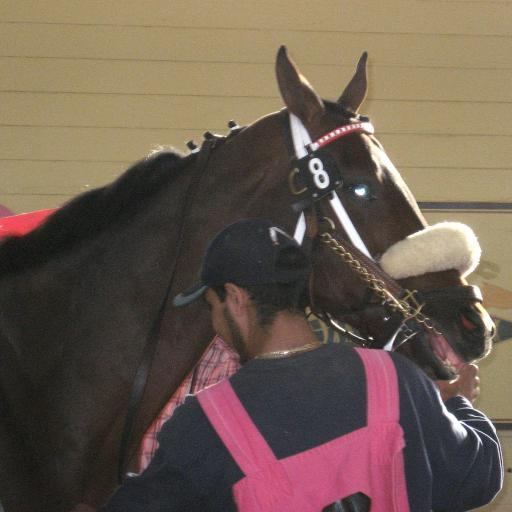horse: (0, 44, 497, 512)
